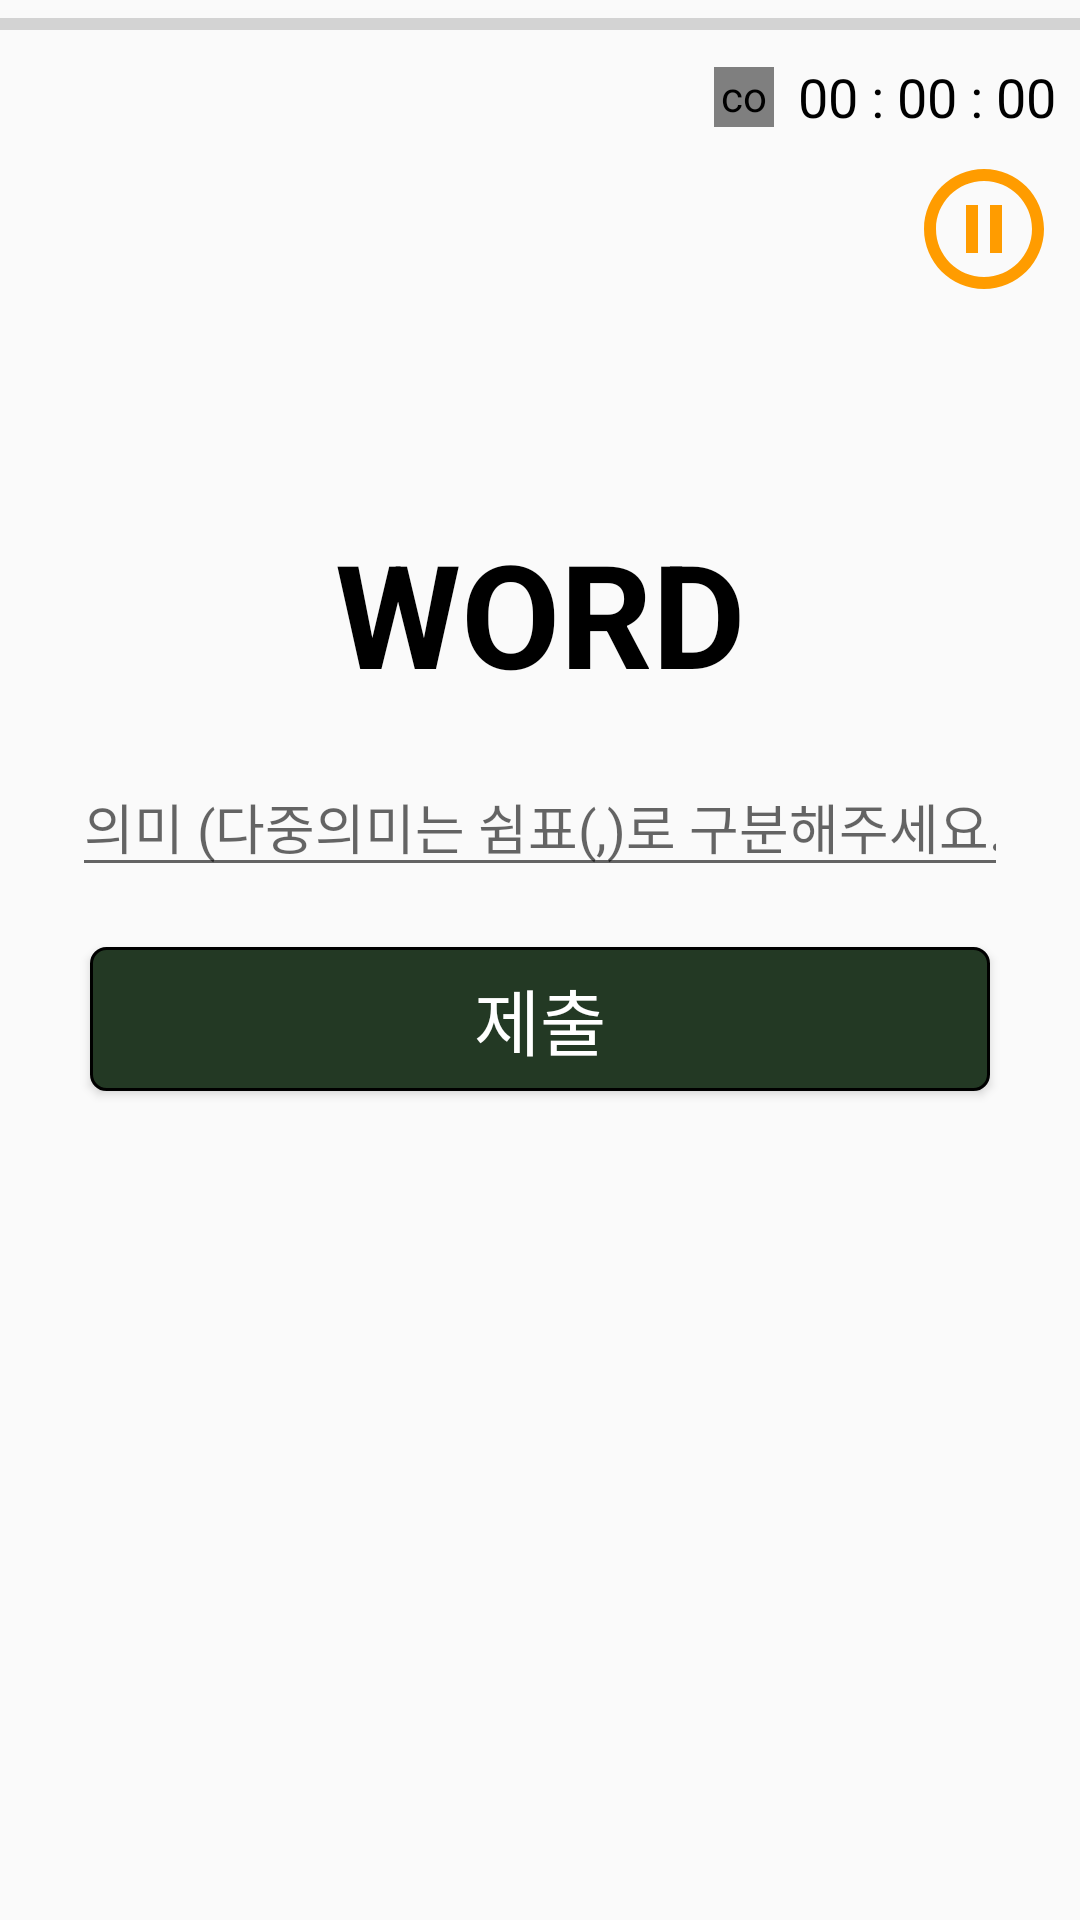

Icons on this 1080w x 1920h Android screen, each with the point to tap as (x=x, y=y):
pause circle: (x=984, y=229)
